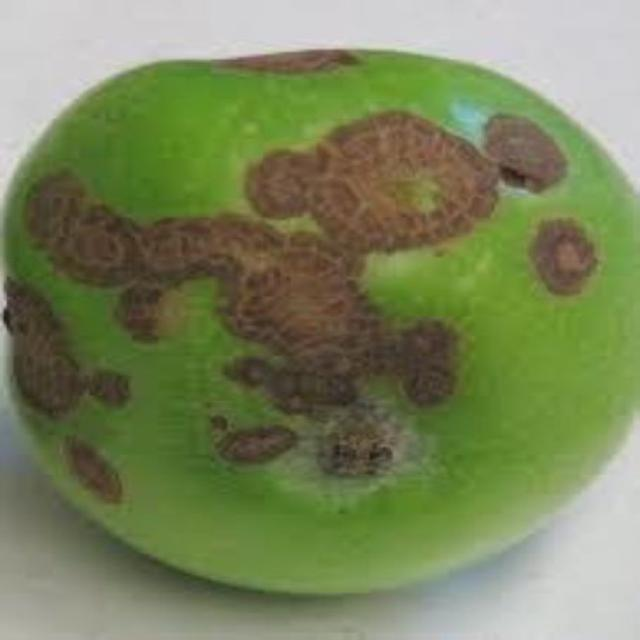Rotten Apple: (22, 26, 628, 604)
